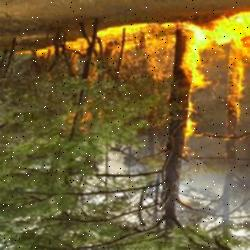fire: (169, 2, 250, 152), (18, 20, 167, 78)
